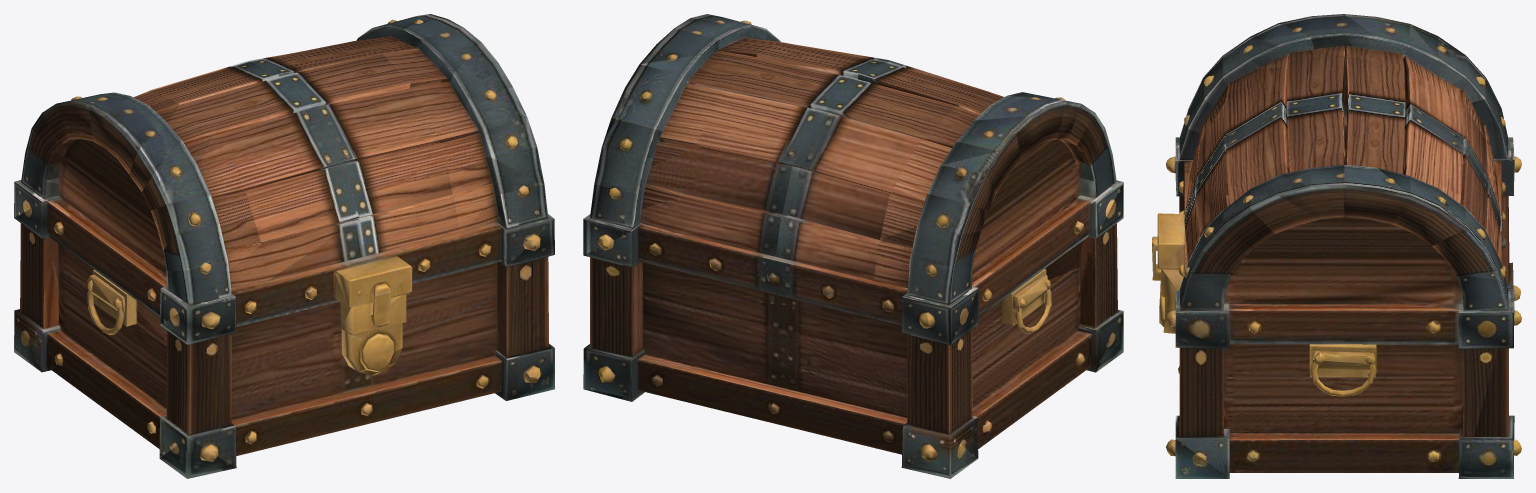
Rendered from chest.glb.
3 views of the same model, side by side, from view 1: azimuth 30°, elevation 25°; view 2: azimuth 150°, elevation 25°; view 3: azimuth 270°, elevation 25° (orthographic). The views are drawn at different scales.
Size of the model in its own units: 0.768 by 0.6 by 0.6855.
Materials: 1 (1 with a texture image).
